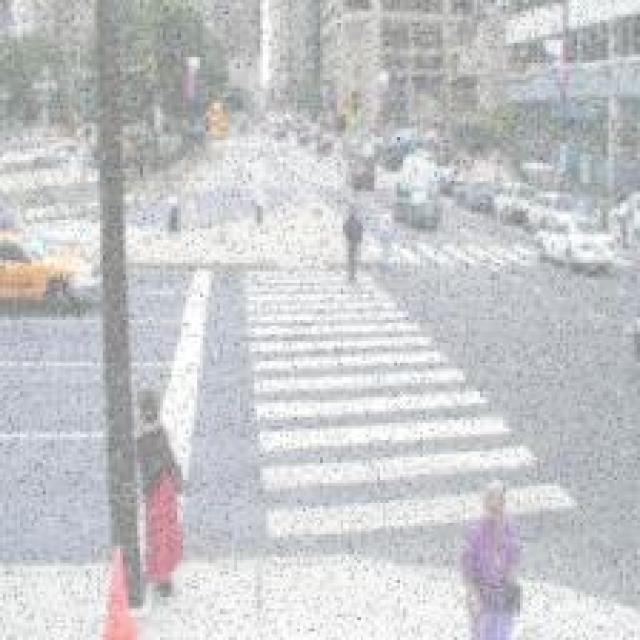walk-crossing: (226, 248, 597, 568), (361, 231, 596, 286)
